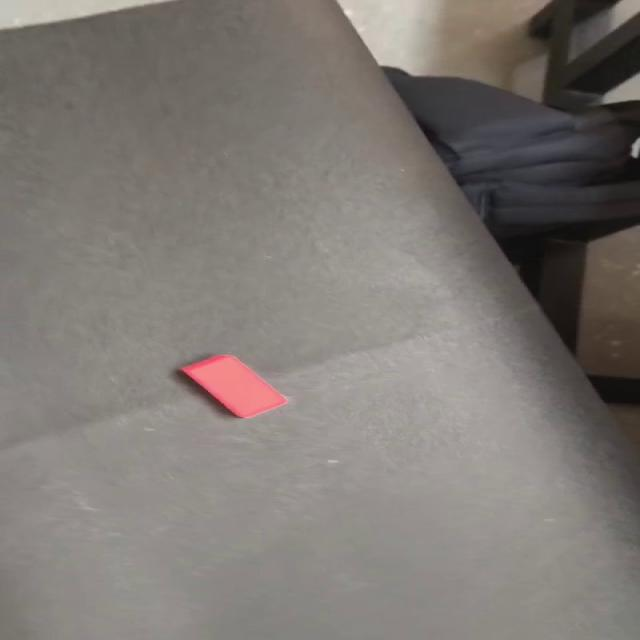red block: (179, 354, 288, 418)
